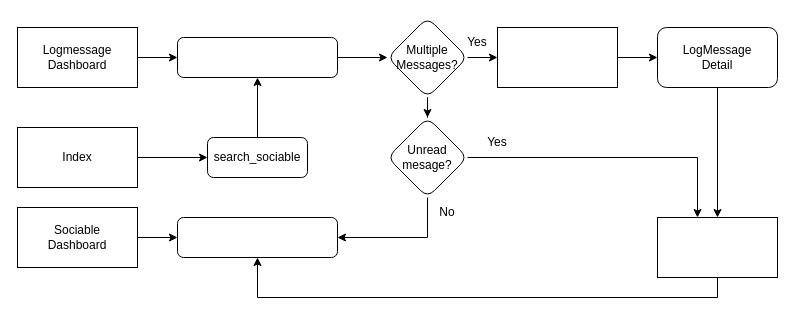
Some shapes in this 795 by 323 pixel diagram are drawn without their labels. Each missing label, with the centre of its shape:
Logmessage Multiple: (x=557, y=57)
show_unread_messages: (x=257, y=57)
SociableDetail: (x=257, y=237)
Unread Message: (x=717, y=247)
